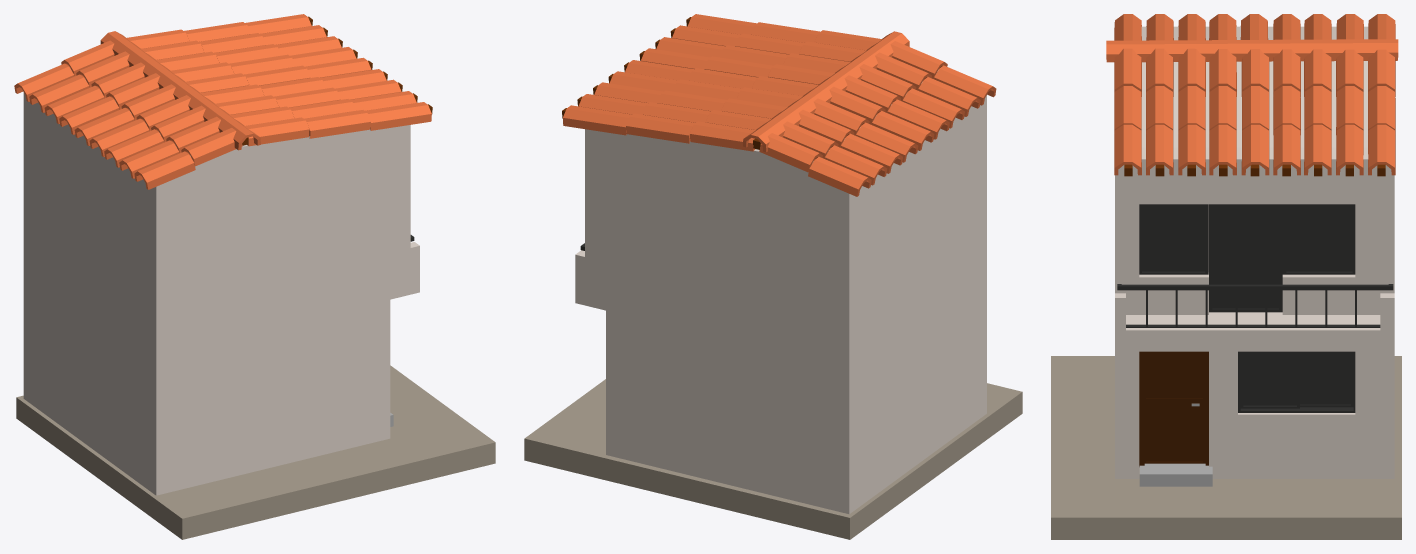
Rendered from Casa estrato 4.glb.
3 views of the same model, side by side, from view 1: azimuth 30°, elevation 25°; view 2: azimuth 150°, elevation 25°; view 3: azimuth 270°, elevation 25° (orthographic). The views are drawn at different scales.
Parts seen in each view (by area): view 1: Cube.070, Plane.006, Cube.097; view 2: Cube.070, Plane.006, Cube.097; view 3: Cube.070, Plane.006, Cube.097, Cube.040, Cube.161, Cube.110, Cube.112.
Boxes of the visible parts, <box> form: Cube.070: <box>23,90,419,495</box>; Plane.006: <box>14,14,431,189</box>; Cube.097: <box>16,365,495,539</box>; Cube.070: <box>575,70,986,514</box>; Plane.006: <box>562,14,996,196</box>; Cube.097: <box>524,379,1022,539</box>; Cube.070: <box>1115,26,1394,478</box>; Plane.006: <box>1106,14,1398,175</box>; Cube.097: <box>1051,356,1401,539</box>; Cube.040: <box>1139,204,1355,412</box>; Cube.161: <box>1139,351,1208,466</box>; Cube.110: <box>1117,284,1393,327</box>; Cube.112: <box>1124,164,1385,176</box>.
Size of the model in its own units: 4.56 by 4.97 by 4.1.
